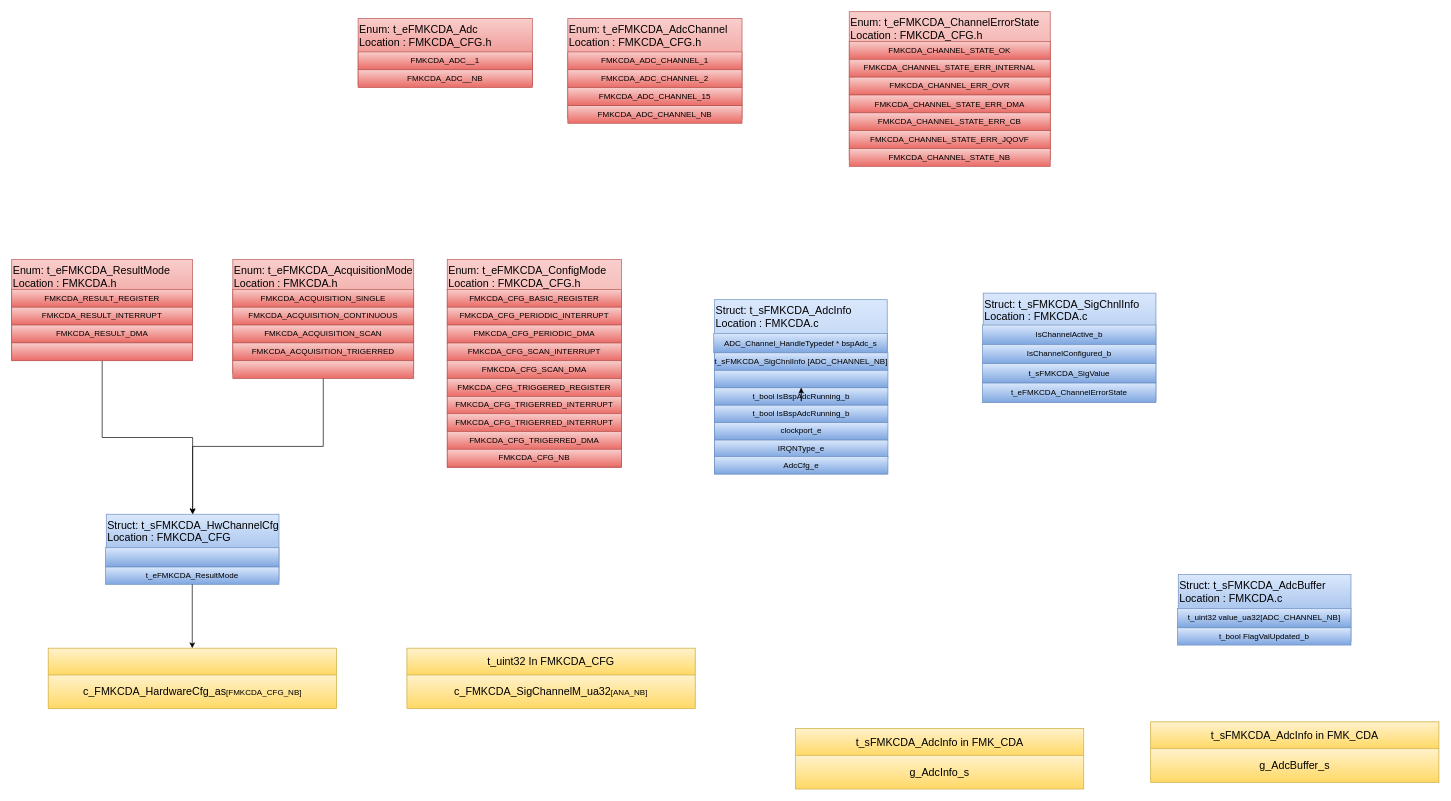
Image size: 1451x801. Some labels were removed from this diagram. The shapes that lost their labels are listed below. From the top down, each one's centre as x and y in pixels, then its label:
the point at 102,351: FMKCDA_RESULT_NB
the point at 323,369: FMKCDA_ACQUISITION_NB
the point at 801,379: t_bool IsBspStructInit_b
the point at 192,557: t_eFMKCDA_AcquisitionMode
the point at 192,661: t_sFMKCDA_HwChannelCfg In FMKCDA_CFG
